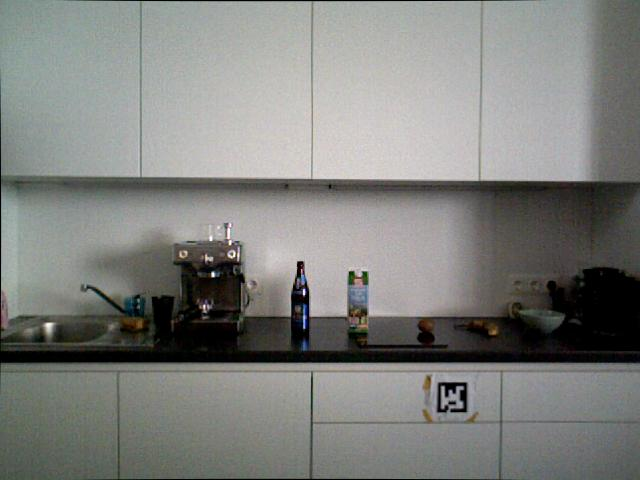bench: (346, 265, 371, 336), (290, 260, 310, 338), (0, 288, 13, 332)
bird: (517, 308, 565, 334)
couch: (0, 317, 115, 345)
giraffe: (507, 300, 525, 319)
handbag: (151, 294, 174, 332), (196, 222, 225, 248), (123, 294, 148, 320)
motorcycle: (453, 317, 501, 337)
